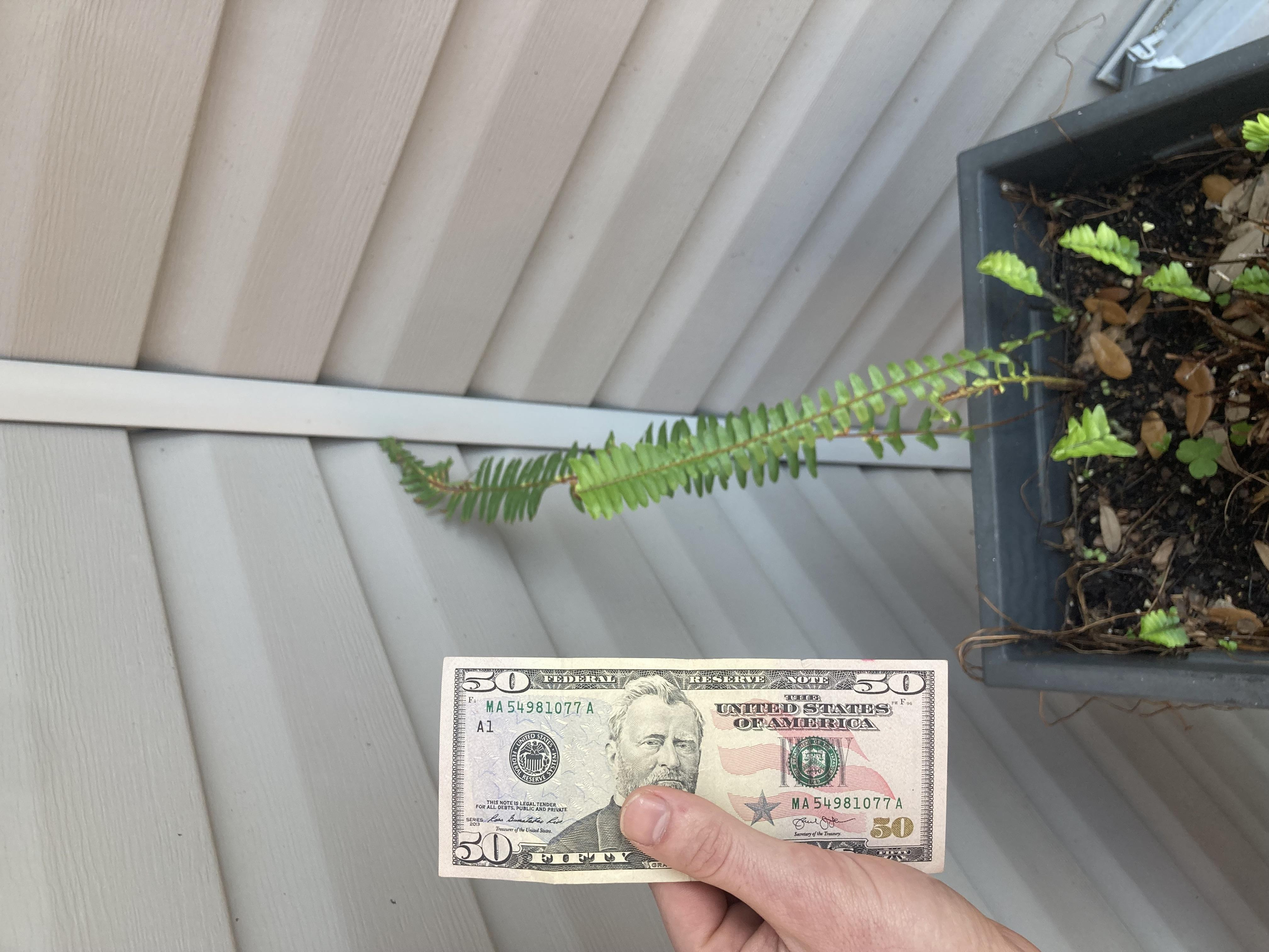fifty-front: (97, 328, 395, 709)
